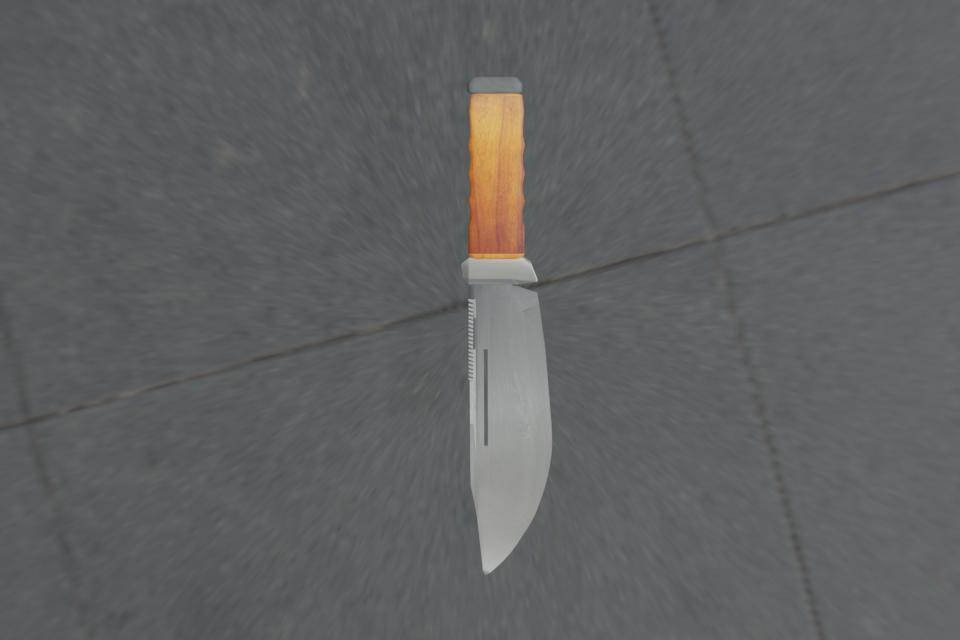knife: (464, 77, 554, 576)
